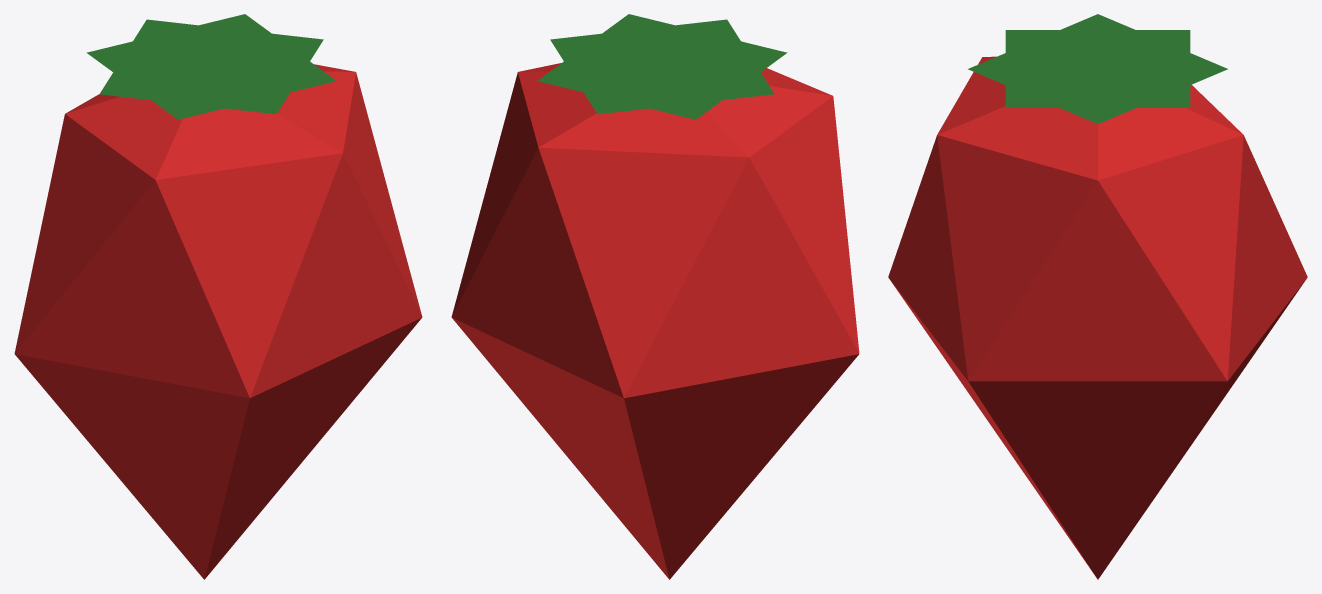
File: strawberry.glb
3 renders of one model, left to right at view 1: azimuth 30°, elevation 25°; view 2: azimuth 150°, elevation 25°; view 3: azimuth 270°, elevation 25°, orthographic.
Visible parts, largest first — view 1: Icosphere, Plane, Plane.001; view 2: Icosphere, Plane.001, Plane; view 3: Icosphere, Plane, Plane.001.
Part boxes in pixels (x1=…): Icosphere: x1=14, y1=64, x2=422, y2=579; Plane: x1=86, y1=14, x2=336, y2=119; Plane.001: x1=99, y1=19, x2=323, y2=114; Icosphere: x1=451, y1=63, x2=859, y2=579; Plane.001: x1=550, y1=19, x2=774, y2=114; Plane: x1=537, y1=14, x2=787, y2=119; Icosphere: x1=888, y1=56, x2=1307, y2=579; Plane: x1=1005, y1=30, x2=1190, y2=107; Plane.001: x1=968, y1=14, x2=1227, y2=123.
Bounding box in the file's own units: 0.1618 × 0.2301 × 0.1701.
